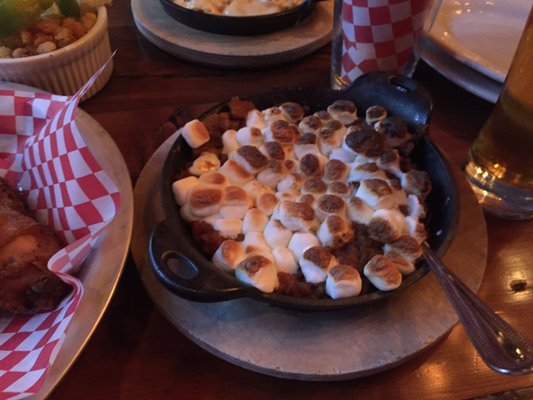pizza: (463, 2, 533, 221)
sushi: (0, 0, 114, 99)
